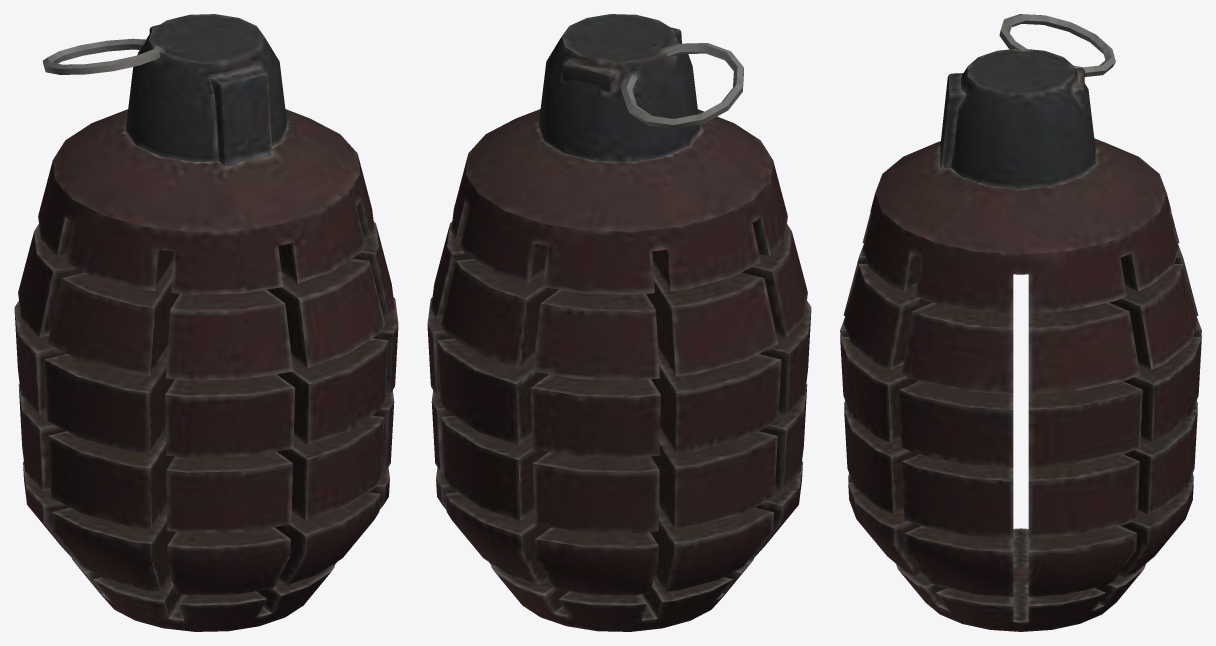
Rendered from defender_piercing_grenade.glb.
3 views of the same model, side by side, from view 1: azimuth 30°, elevation 25°; view 2: azimuth 150°, elevation 25°; view 3: azimuth 270°, elevation 25° (orthographic). The views are drawn at different scales.
Parts seen in each view (by area): view 1: defender_piercing_grenade; view 2: defender_piercing_grenade; view 3: defender_piercing_grenade.
Part boxes in pixels (x1=…): defender_piercing_grenade: x1=14, y1=14, x2=398, y2=631; defender_piercing_grenade: x1=427, y1=14, x2=811, y2=631; defender_piercing_grenade: x1=840, y1=14, x2=1201, y2=631.
Size of the model in its own units: 0.081 by 0.1336 by 0.081.
Materials: 1 (1 with a texture image).
